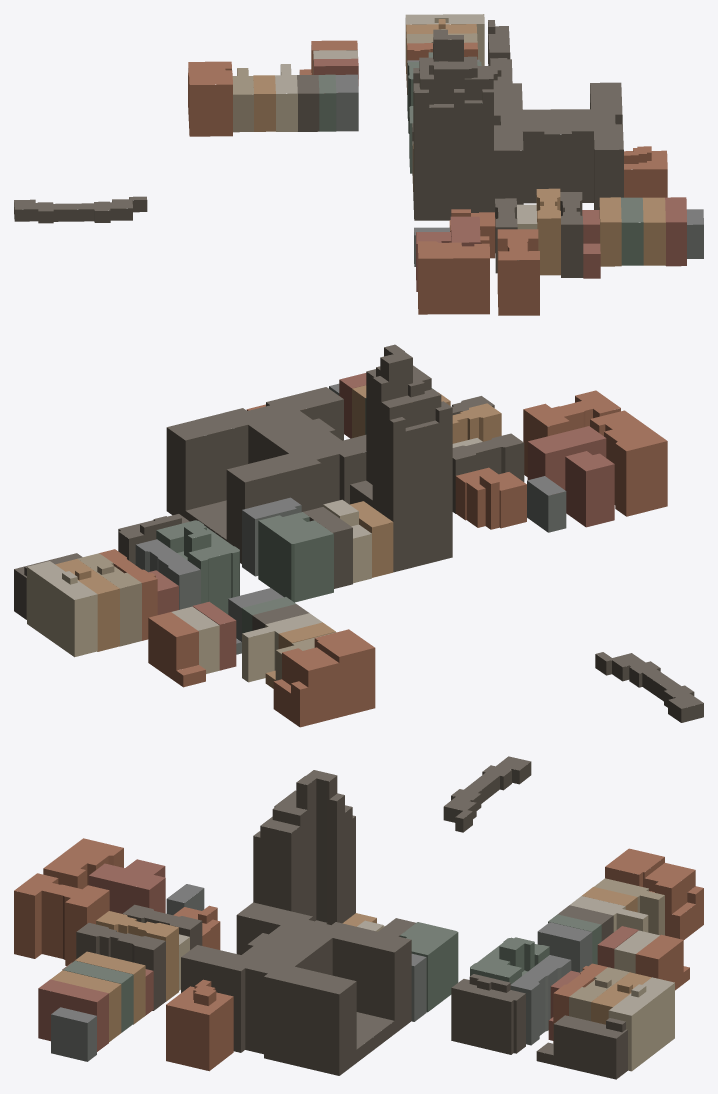
File: tile-7_2.glb
3 renders of one model, top to bottom at view 1: azimuth 30°, elevation 25°; view 2: azimuth 150°, elevation 25°; view 3: azimuth 270°, elevation 25°, orthographic. The views are drawn at different scales.
Parts seen in each view (by area): view 1: wall, roof; view 2: wall, roof; view 3: wall, roof.
Boxes of the visible parts, bbox=[...] form: wall: bbox=[14, 18, 703, 315]; roof: bbox=[14, 14, 703, 260]; wall: bbox=[14, 347, 703, 727]; roof: bbox=[14, 344, 703, 708]; wall: bbox=[14, 762, 703, 1079]; roof: bbox=[14, 756, 703, 1055].
Size of the model in its own units: 220 by 67.44 by 213.
